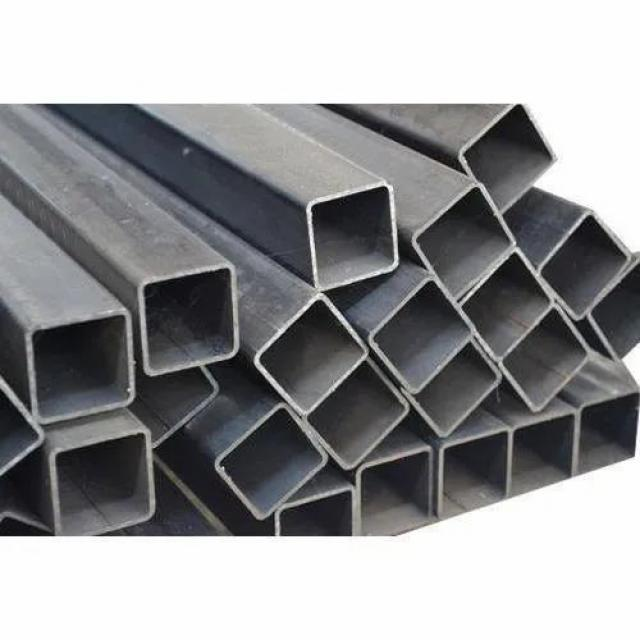pipe: (217, 404, 325, 521), (256, 297, 367, 410), (414, 183, 516, 298), (372, 278, 475, 391), (32, 311, 132, 422), (304, 359, 408, 465), (54, 432, 150, 536), (539, 211, 634, 316), (460, 104, 553, 211), (460, 252, 554, 357), (144, 264, 235, 372), (310, 184, 398, 289), (502, 306, 588, 408), (412, 342, 502, 435), (358, 450, 431, 534), (510, 414, 577, 497), (442, 432, 508, 516), (579, 390, 639, 475), (591, 260, 640, 362)
